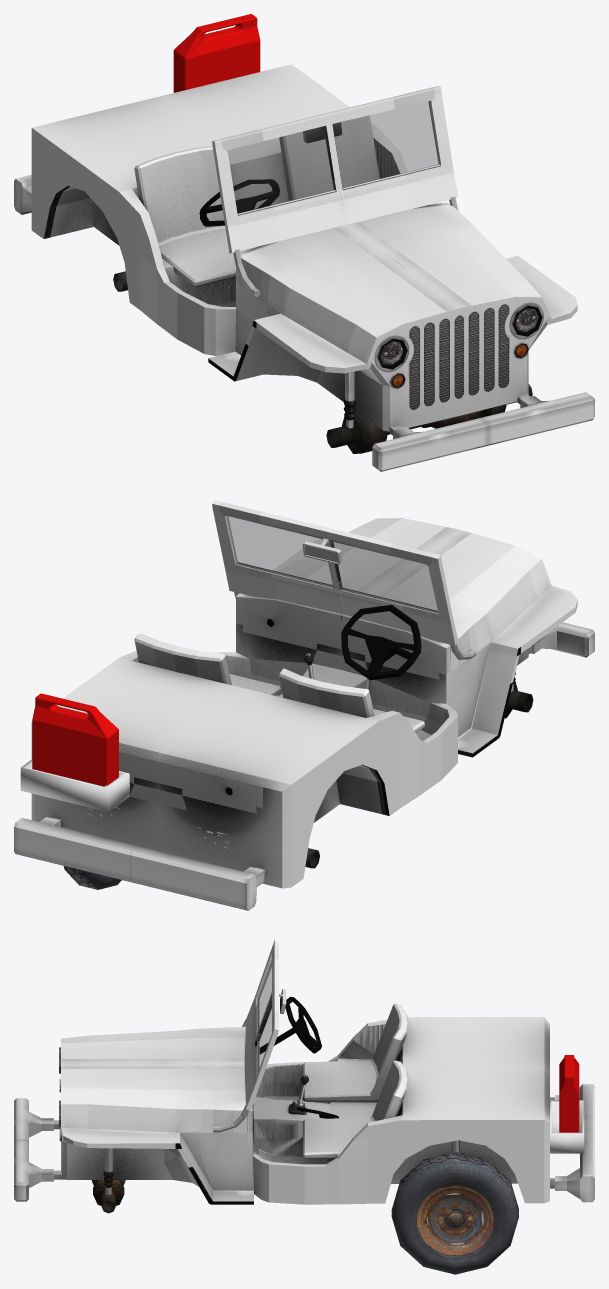
Rendered from safari_cruiser.fbx.
The picture shows the model from 3 angles, top to bottom: view 1: azimuth 30°, elevation 25°; view 2: azimuth 150°, elevation 25°; view 3: azimuth 270°, elevation 25°; orthographic projection. The views are drawn at different scales.
Visible parts, largest first — view 1: safari_cruiser_body, prop_jerry_can, front_diff, steering_wheel; view 2: safari_cruiser_body, prop_jerry_can, jerry_can_holder, steering_wheel, wheel, front_diff; view 3: safari_cruiser_body, wheel, prop_jerry_can, jerry_can_holder, front_diff, steering_wheel.
Part boxes in pixels (box(x1,y1,x2,y2)): safari_cruiser_body: box(14, 64, 594, 471); prop_jerry_can: box(173, 14, 260, 92); front_diff: box(326, 371, 532, 453); steering_wheel: box(199, 179, 279, 226); safari_cruiser_body: box(14, 500, 594, 910); prop_jerry_can: box(32, 693, 118, 786); jerry_can_holder: box(20, 759, 129, 811); steering_wheel: box(341, 604, 421, 680); wheel: box(63, 866, 121, 889); front_diff: box(504, 672, 533, 718); safari_cruiser_body: box(14, 939, 594, 1204); wheel: box(391, 1151, 518, 1274); prop_jerry_can: box(559, 1055, 579, 1132); jerry_can_holder: box(550, 1100, 584, 1153); front_diff: box(91, 1148, 125, 1213); steering_wheel: box(259, 996, 321, 1053).
Size of the model in its own units: 173 by 187 by 403.
